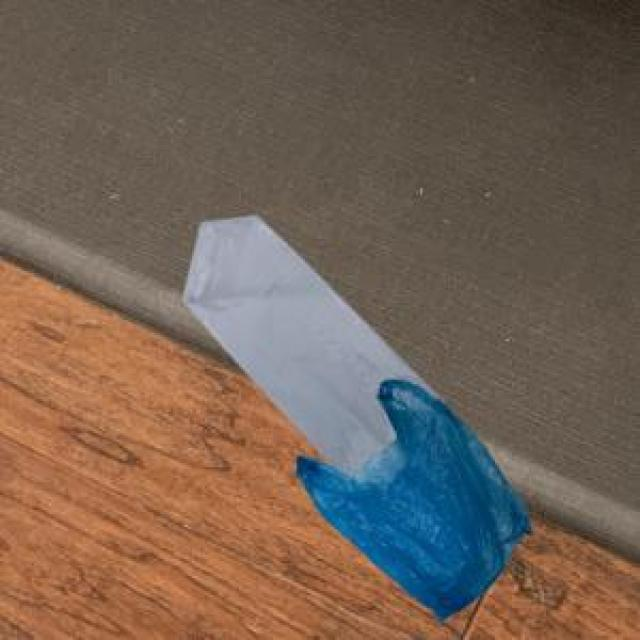waste: (185, 218, 529, 618)
